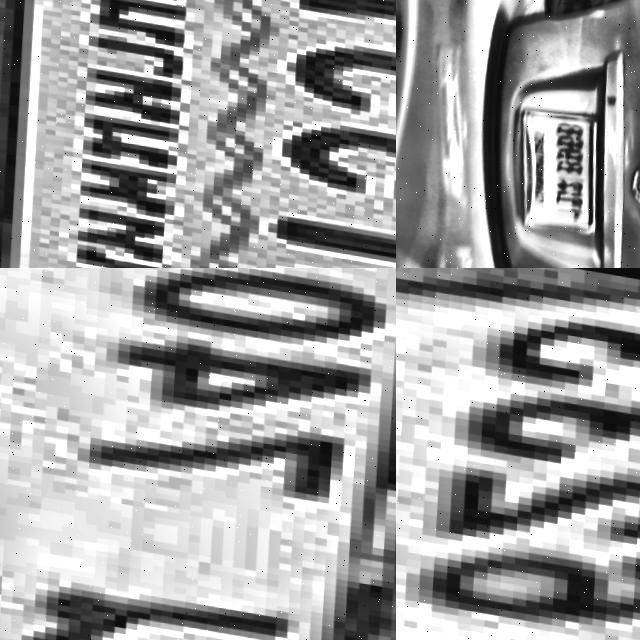license-plate: (0, 268, 396, 640), (0, 0, 396, 268), (396, 268, 640, 640), (505, 93, 608, 233)
